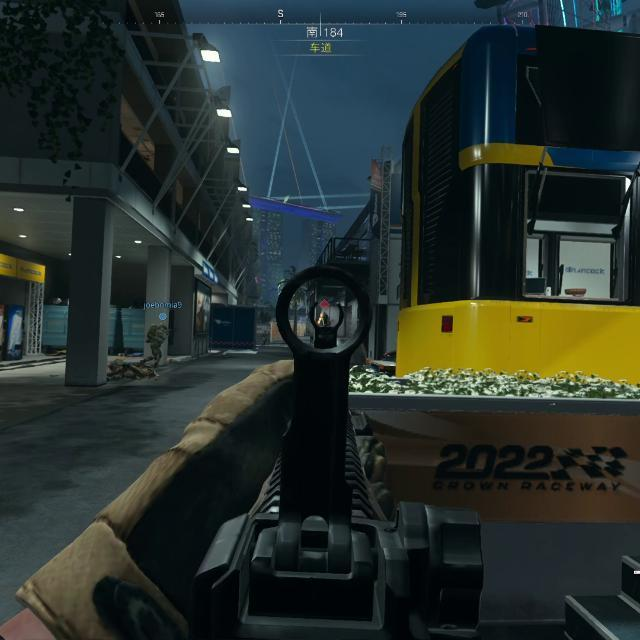MW2_body: (319, 298, 333, 329)
